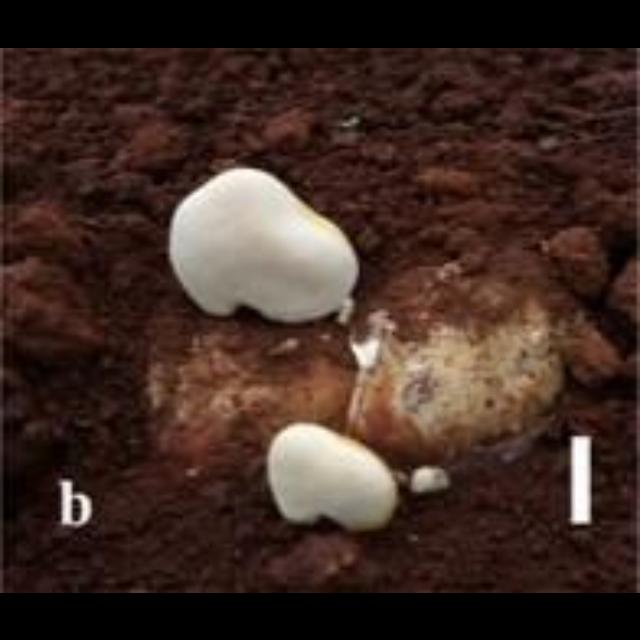primordium: (168, 164, 363, 324), (266, 422, 403, 536), (410, 464, 455, 499)
